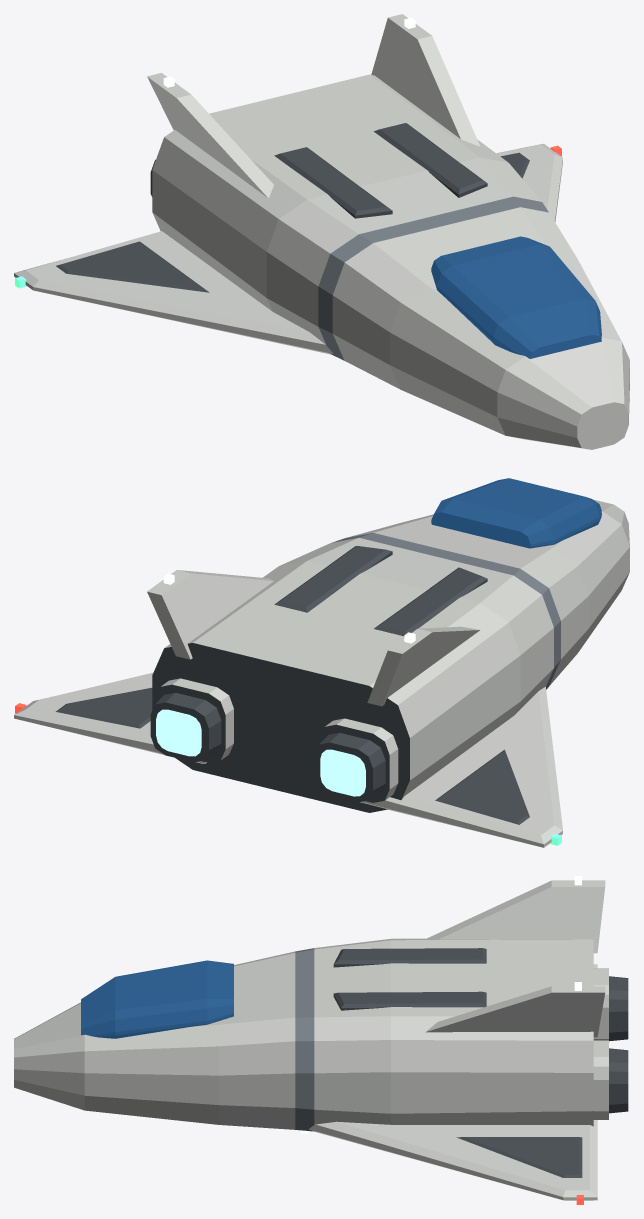
Rendered from adder.glb.
3 views of the same model, one above another, from view 1: azimuth 30°, elevation 25°; view 2: azimuth 150°, elevation 25°; view 3: azimuth 270°, elevation 25° (orthographic). The views are drawn at different scales.
Parts seen in each view (by area): view 1: adder; view 2: adder; view 3: adder.
Part boxes in pixels (x1,y1,x2,y2): adder: [14, 14, 629, 449]; adder: [14, 478, 629, 847]; adder: [14, 876, 628, 1204].
Size of the model in its own units: 29.49 by 9.83 by 32.19.
